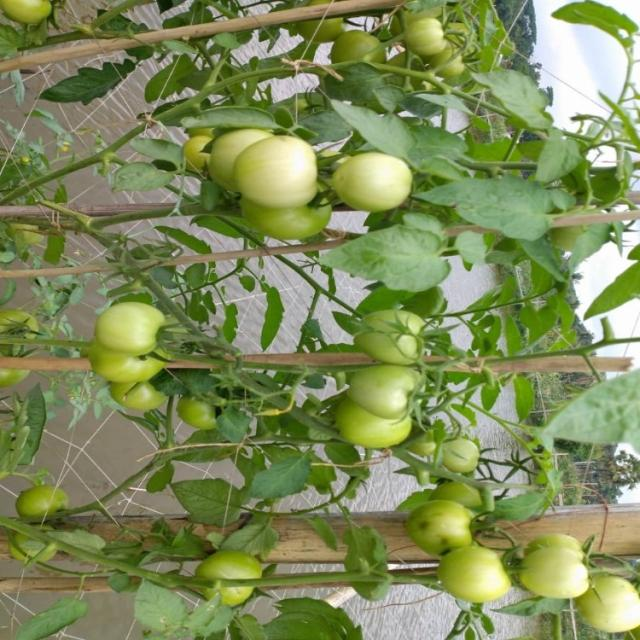tomato: (231, 133, 326, 226), (334, 391, 438, 473), (344, 300, 448, 374), (515, 526, 597, 617), (92, 303, 206, 362), (330, 147, 418, 223), (235, 191, 343, 249), (433, 544, 514, 620), (337, 369, 434, 432), (404, 497, 488, 562), (574, 565, 640, 637), (196, 546, 270, 608), (204, 124, 276, 183), (82, 335, 166, 381), (433, 440, 511, 489), (1, 288, 49, 357), (404, 14, 452, 64), (114, 382, 175, 419), (178, 401, 231, 439), (15, 485, 73, 519), (8, 1, 59, 32)
